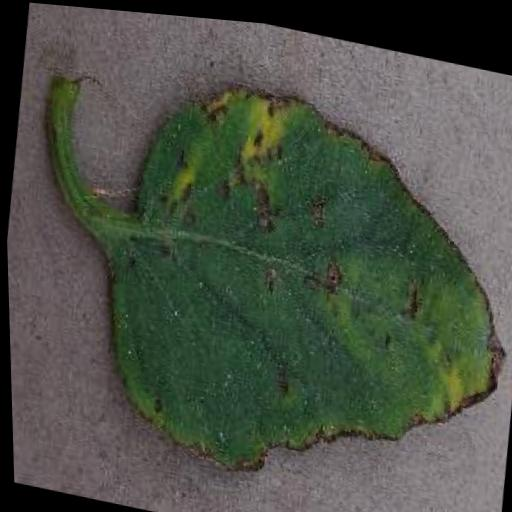Bacterial Spot: (1, 27, 512, 512)
